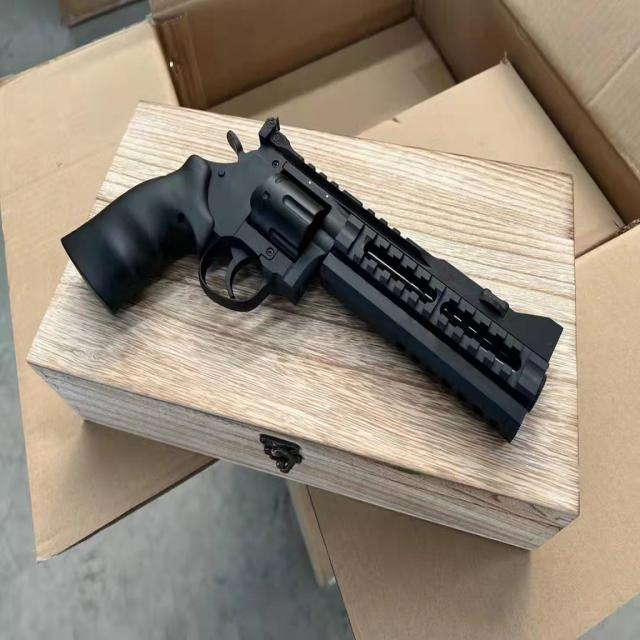handgun: (63, 120, 578, 458)
